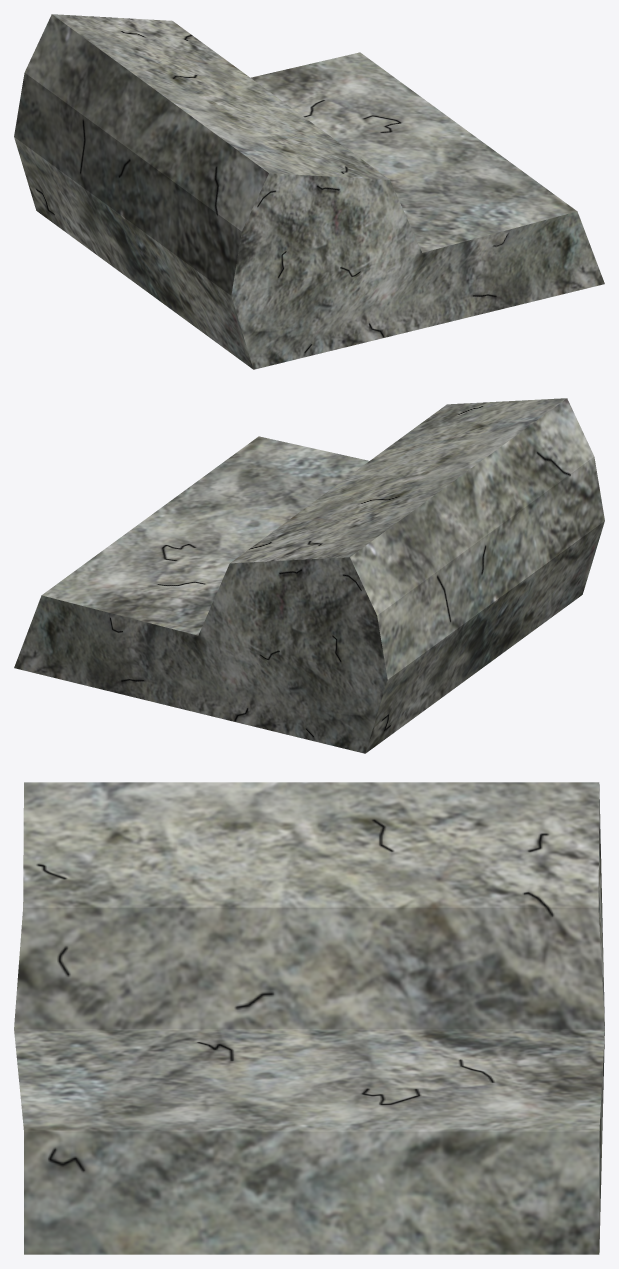
File: platform1.FBX
3 views of the same model, one above another, from view 1: azimuth 30°, elevation 25°; view 2: azimuth 150°, elevation 25°; view 3: azimuth 270°, elevation 25° (orthographic). The views are drawn at different scales.
Parts seen in each view (by area): view 1: Box001; view 2: Box001; view 3: Box001.
Part boxes in pixels (left/top/right/bottom): Box001: left=14, top=14, right=604, bottom=369; Box001: left=14, top=398, right=604, bottom=753; Box001: left=14, top=782, right=604, bottom=1254.
Size of the model in its own units: 51.16 by 25.23 by 52.92.
Materials: 1 (1 with a texture image).
